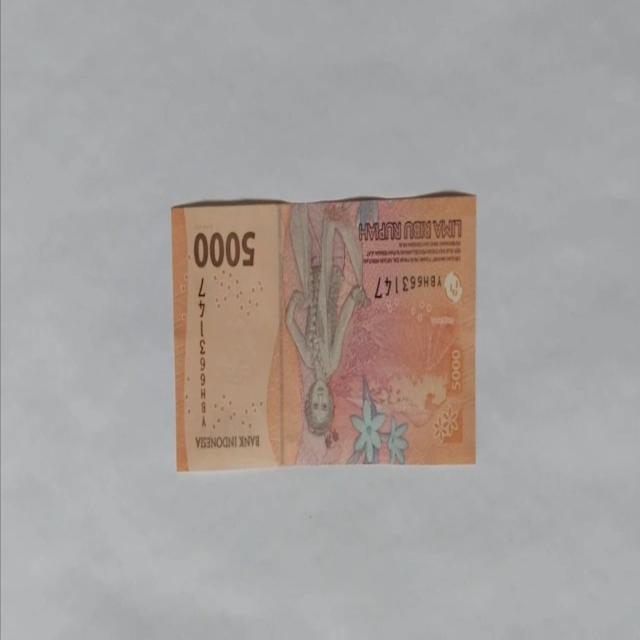lima ribu rupiah: (170, 190, 478, 471)
